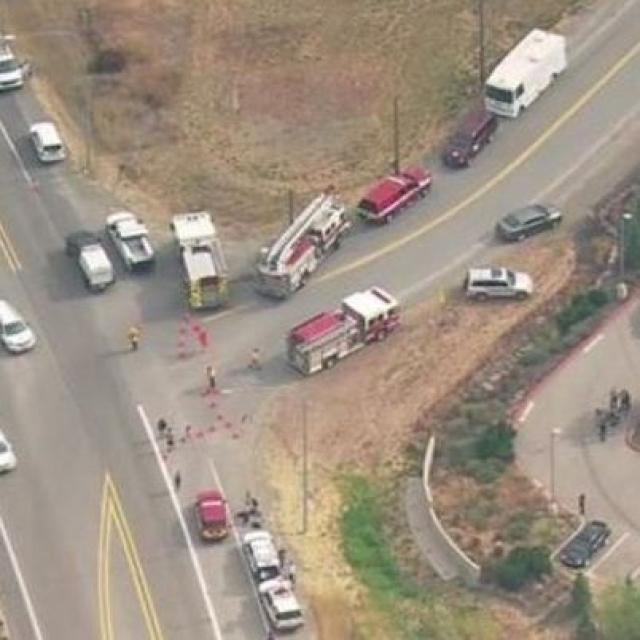traffic_incident: (243, 492, 301, 636)
